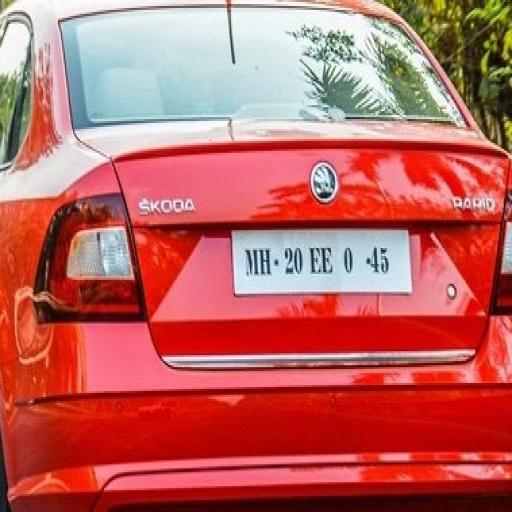License: (228, 226, 411, 292)
